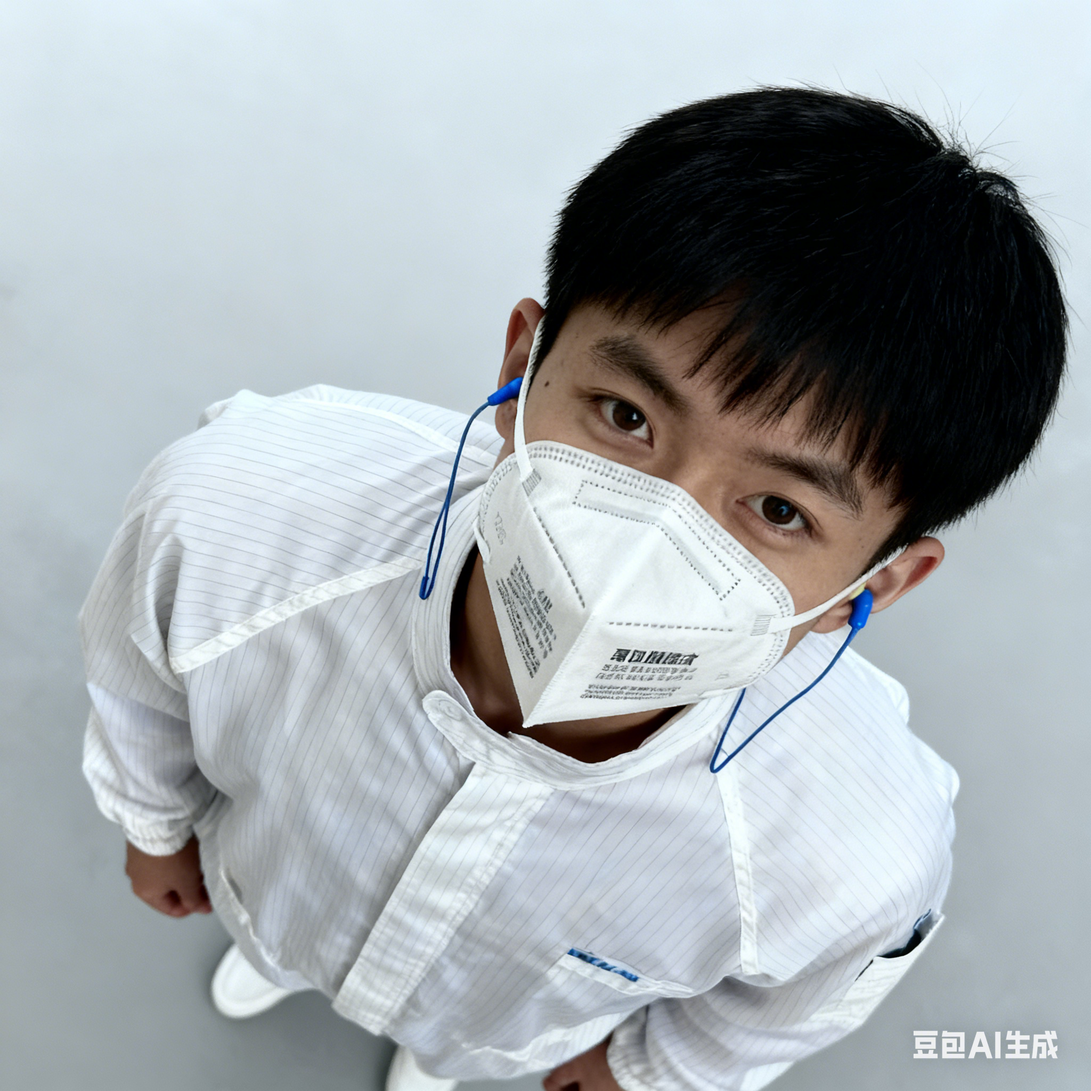MASK: (468, 440, 788, 730)
